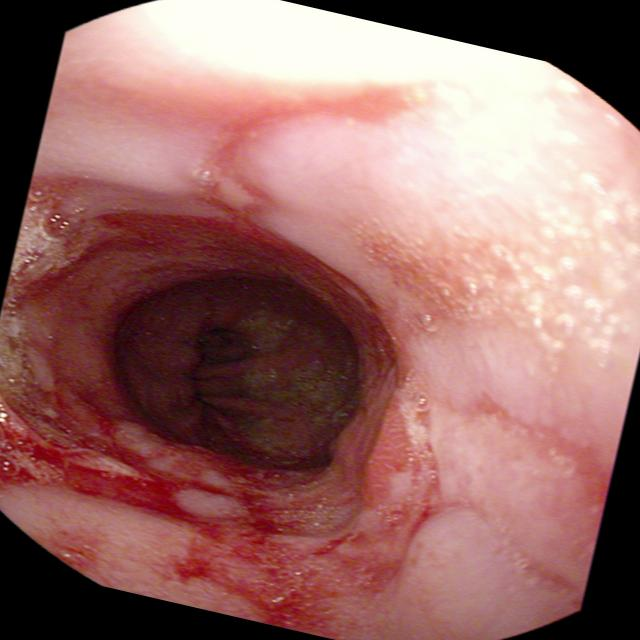esophagitis: (0, 50, 615, 640)
